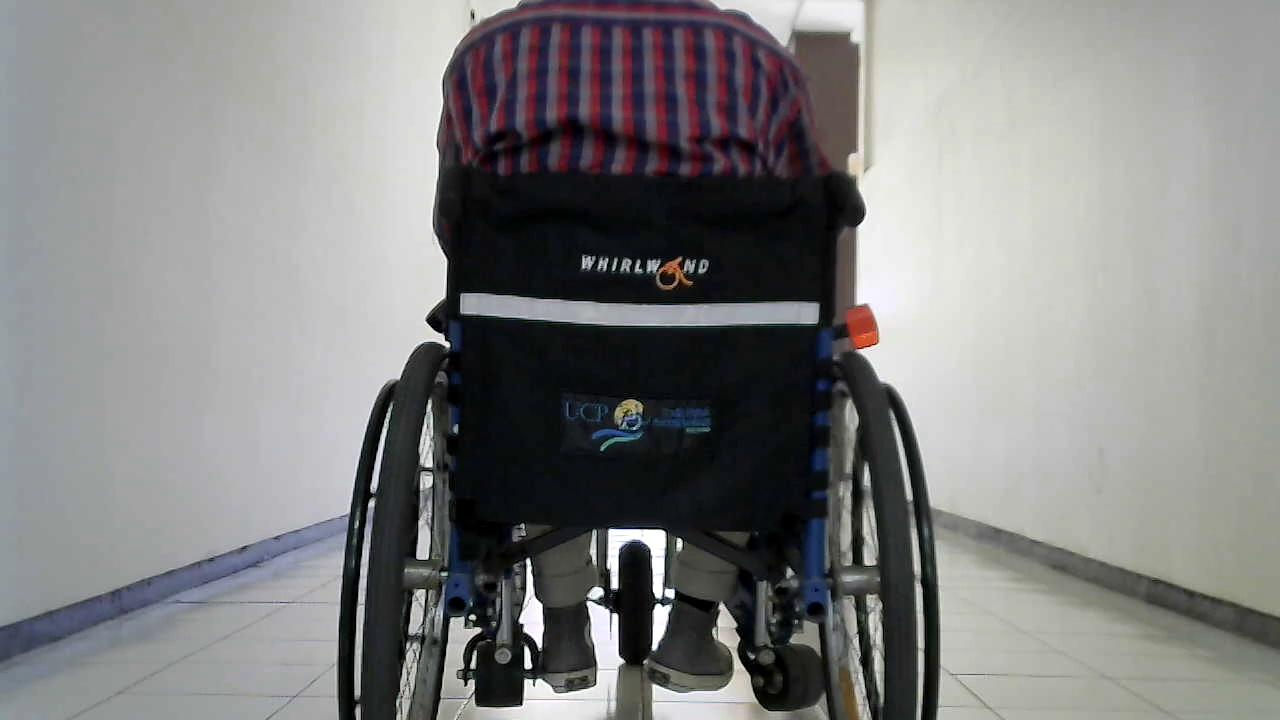wheelchair: (310, 145, 957, 720)
